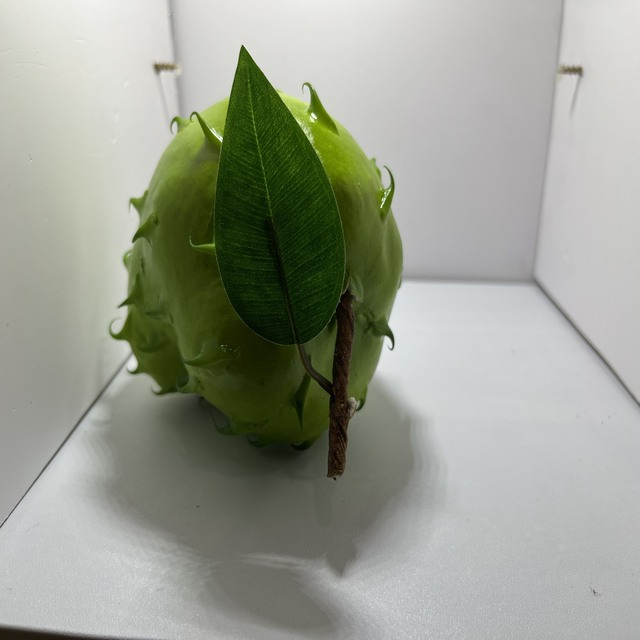Man cau: (104, 68, 414, 458)
